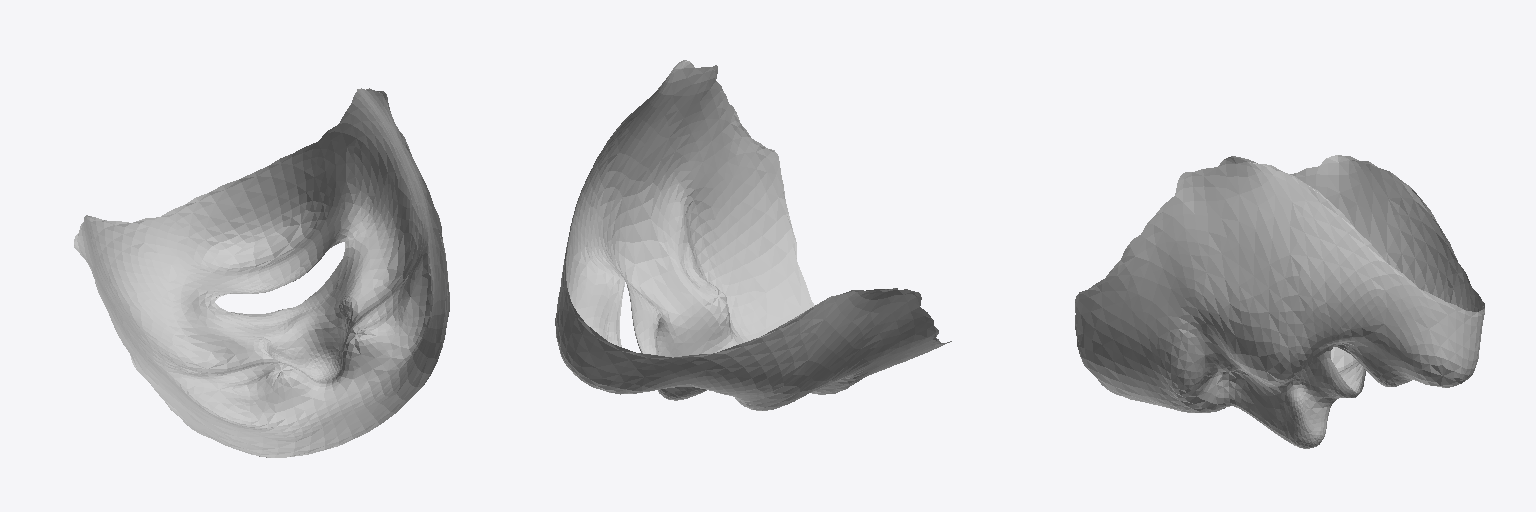
File: face_gab_sfm98.obj
3 renders of one model, left to right at view 1: azimuth 30°, elevation 25°; view 2: azimuth 150°, elevation 25°; view 3: azimuth 270°, elevation 25°, orthographic.
Size of the model in its own units: 171 by 160 by 196.